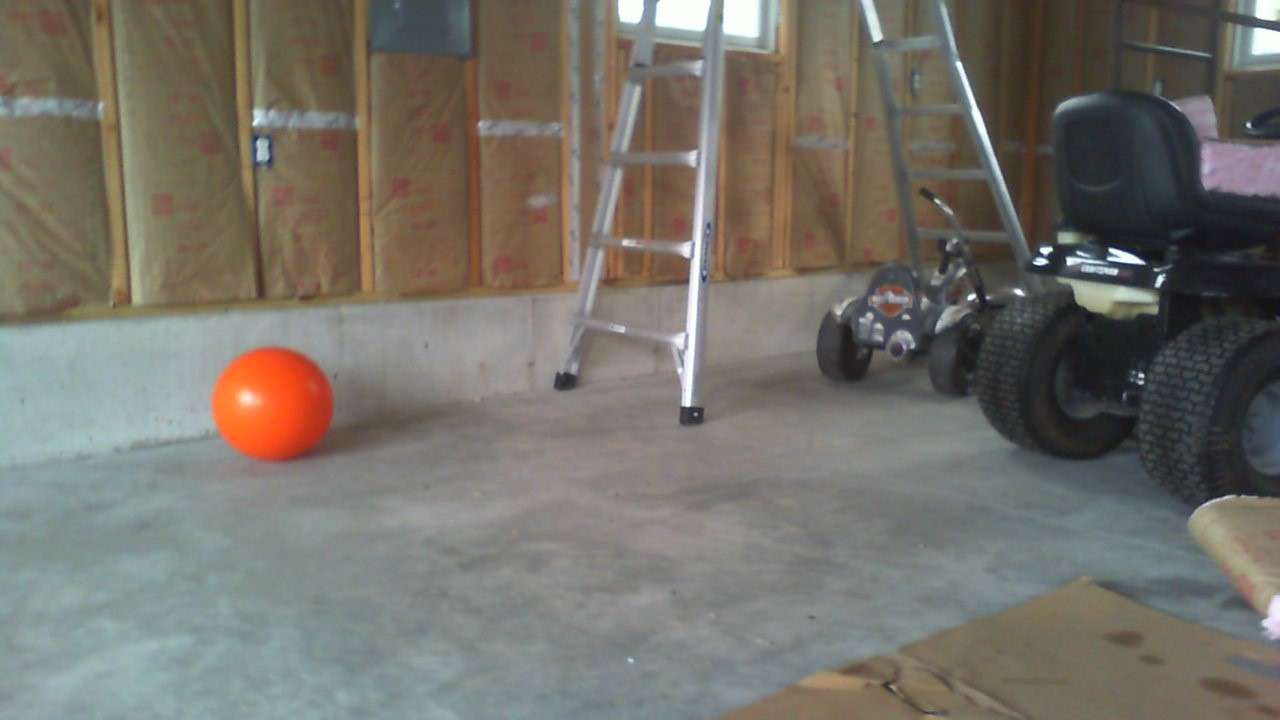Ball: (213, 345, 333, 459)
